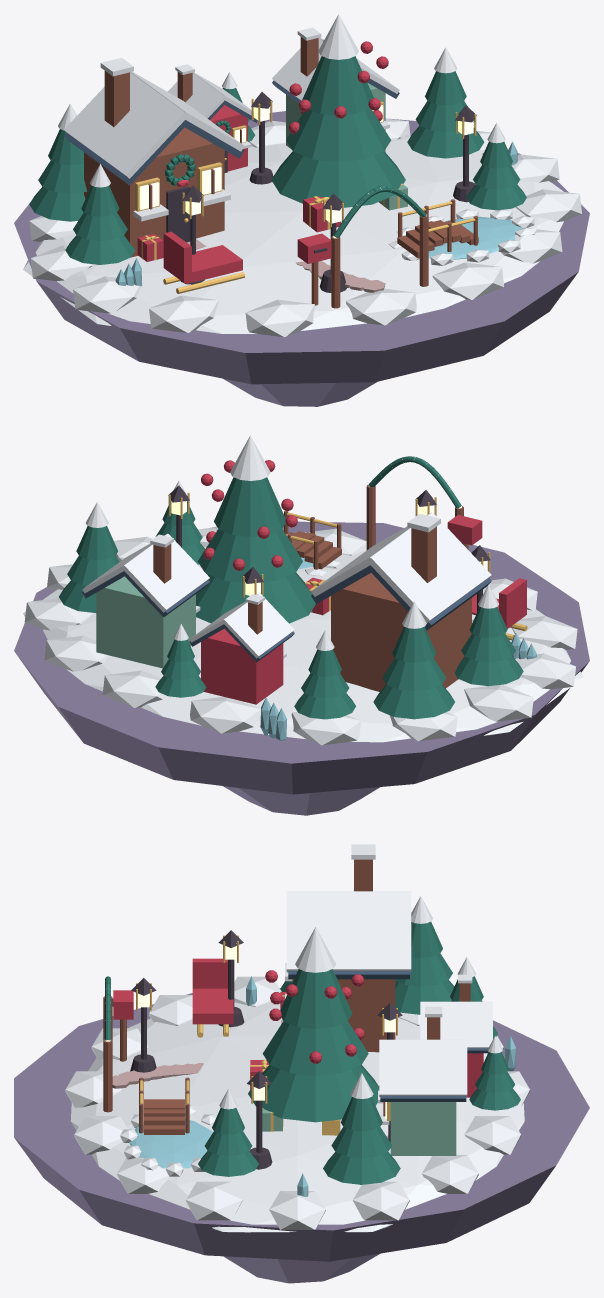
File: world-unlit.glb
3 renders of one model, top to bottom at view 1: azimuth 30°, elevation 25°; view 2: azimuth 150°, elevation 25°; view 3: azimuth 270°, elevation 25°, orthographic.
Parts seen in each view (by area): view 1: Snow plateau, Floating island terrace, Roof snow, Cottage walls.001, Faceted pine, Faceted pine.001, Faceted pine.002, Floating island lower, Snow edge.010, Snow edge.009, Snow edge.011, Snow edge.012 (+37 smaller); view 2: Floating island terrace, Snow plateau, Cottage walls.001, Cottage walls.002, Roof snow, Cottage walls, Faceted pine.001, Faceted pine, Faceted pine.002, Roof snow.002, Floating island lower, Faceted pine.006 (+38 smaller); view 3: Floating island terrace, Snow plateau, Roof snow.001, Roof snow.003, Faceted pine, Faceted pine.001, Cottage walls.002, Faceted pine.002, Roof snow.005, Floating island lower, Cottage walls.001, Frozen pond (+30 smaller).
Part boxes in pixels (x1=…): Snow plateau: x1=23, y1=135, x2=583, y2=333; Floating island terrace: x1=14, y1=111, x2=589, y2=384; Roof snow: x1=64, y1=72, x2=188, y2=178; Cottage walls.001: x1=84, y1=127, x2=224, y2=257; Faceted pine: x1=271, y1=151, x2=405, y2=207; Faceted pine.001: x1=286, y1=108, x2=390, y2=162; Faceted pine.002: x1=302, y1=56, x2=373, y2=115; Floating island lower: x1=223, y1=378, x2=376, y2=406; Snow edge.010: x1=245, y1=299, x2=315, y2=337; Snow edge.009: x1=149, y1=295, x2=218, y2=332; Snow edge.011: x1=346, y1=288, x2=416, y2=325; Snow edge.012: x1=432, y1=262, x2=503, y2=299; Floating island terrace: x1=14, y1=521, x2=589, y2=794; Snow plateau: x1=23, y1=550, x2=583, y2=742; Cottage walls.001: x1=331, y1=573, x2=471, y2=691; Cottage walls.002: x1=96, y1=576, x2=195, y2=668; Roof snow: x1=367, y1=513, x2=491, y2=623; Cottage walls: x1=201, y1=628, x2=283, y2=704; Faceted pine.001: x1=197, y1=529, x2=302, y2=582; Faceted pine: x1=196, y1=572, x2=315, y2=623; Faceted pine.002: x1=214, y1=477, x2=285, y2=536; Roof snow.002: x1=122, y1=534, x2=209, y2=612; Floating island lower: x1=223, y1=786, x2=380, y2=815; Faceted pine.006: x1=373, y1=684, x2=454, y2=719; Floating island terrace: x1=14, y1=988, x2=589, y2=1261; Snow plateau: x1=70, y1=1002, x2=524, y2=1232; Roof snow.001: x1=286, y1=891, x2=411, y2=972; Roof snow.003: x1=379, y1=1040, x2=467, y2=1096; Faceted pine: x1=248, y1=1065, x2=379, y2=1122; Faceted pine.001: x1=262, y1=1021, x2=368, y2=1075; Cottage walls.002: x1=390, y1=1102, x2=456, y2=1155; Faceted pine.002: x1=280, y1=969, x2=352, y2=1028; Roof snow.005: x1=420, y1=1002, x2=492, y2=1048; Floating island lower: x1=223, y1=1253, x2=380, y2=1283; Cottage walls.001: x1=337, y1=979, x2=395, y2=1052; Frozen pond: x1=129, y1=1119, x2=212, y2=1168.
Bounding box in the file's own units: 2.28 × 1.52 × 2.25.
